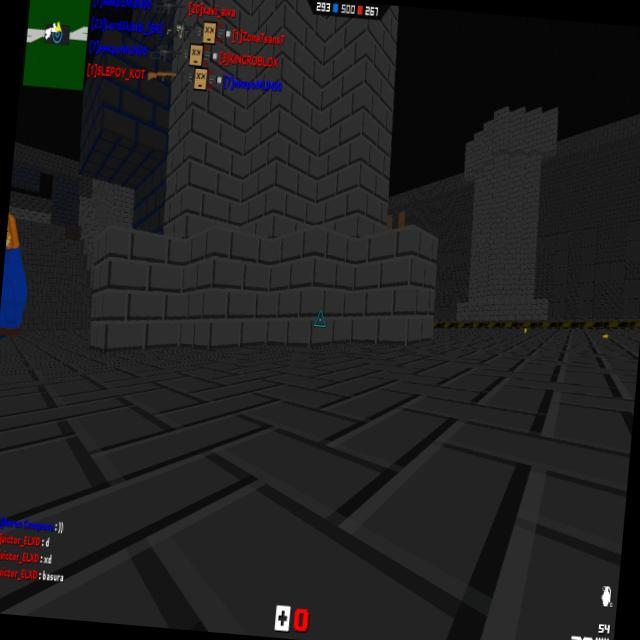enemy: (0, 207, 35, 340)
